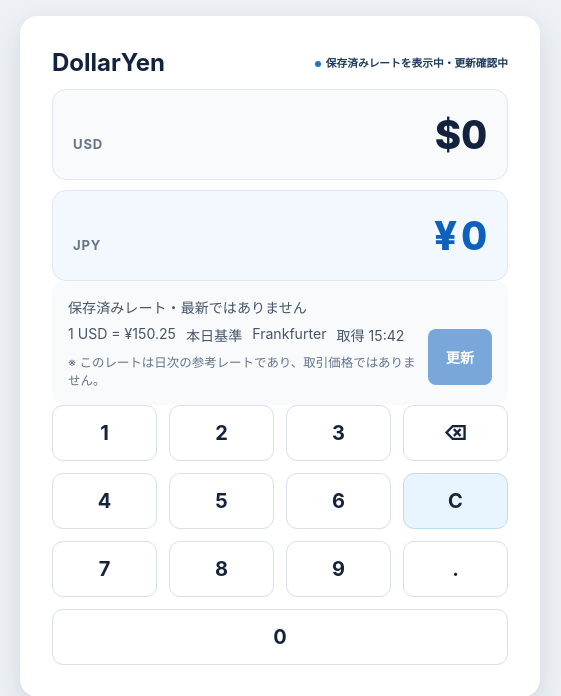
Test: keeps the keypad usable while loading with cache
Step 1. Click the button "1" → (104, 433), box [52,405,157,461]
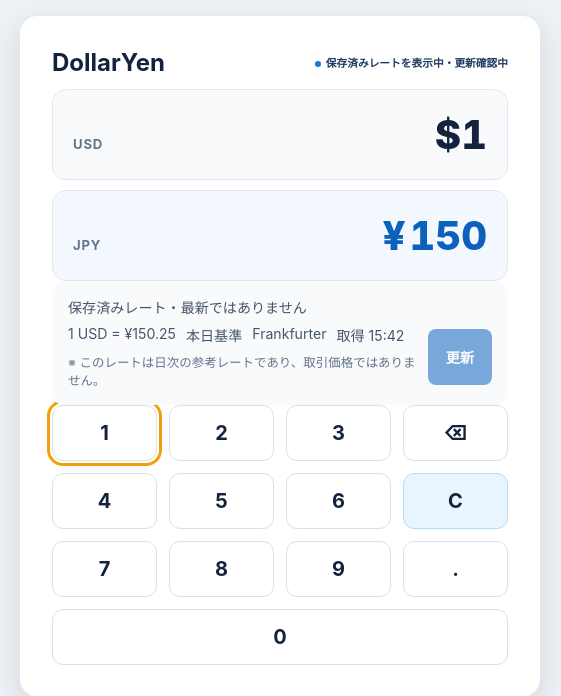
Expected: the text named "米ドル金額" reads "$1", [435,110,487,159]
